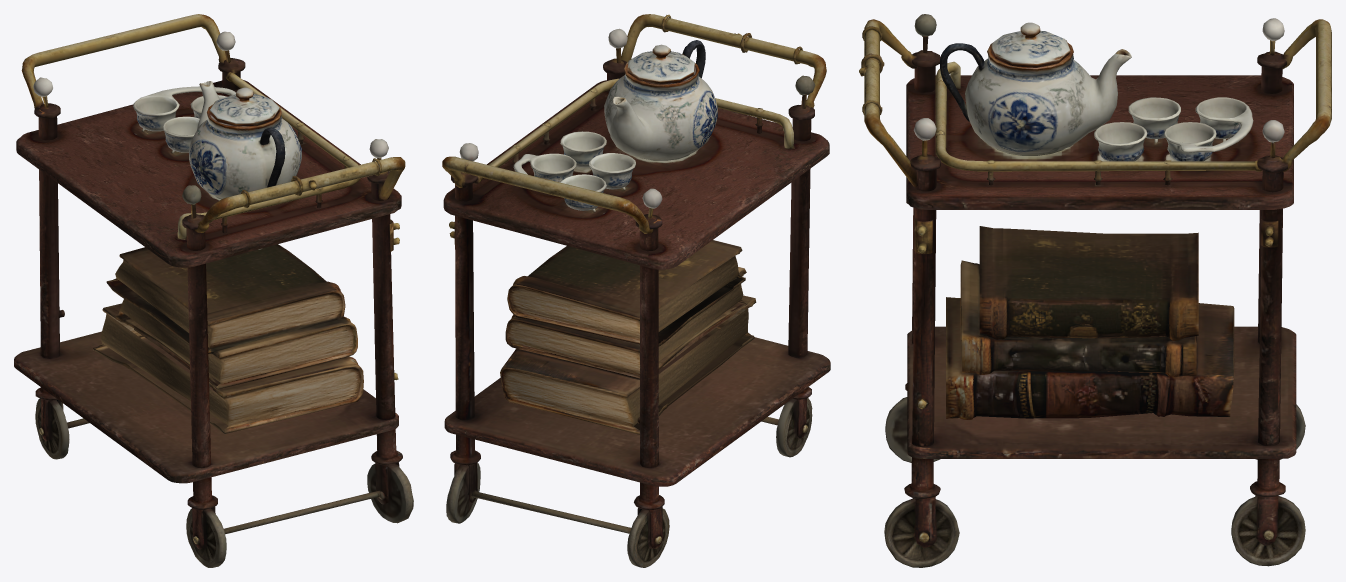
3 views of the same model, side by side, from view 1: azimuth 30°, elevation 25°; view 2: azimuth 150°, elevation 25°; view 3: azimuth 270°, elevation 25° (orthographic). The views are drawn at different scales.
Visible parts, largest first — view 1: tripo_node_6488159e-99cc-46d5-a949-6d8d801ff641; view 2: tripo_node_6488159e-99cc-46d5-a949-6d8d801ff641; view 3: tripo_node_6488159e-99cc-46d5-a949-6d8d801ff641.
Boxes of the visible parts, x1,y1,x2,y2 form: tripo_node_6488159e-99cc-46d5-a949-6d8d801ff641: (14, 14, 413, 567); tripo_node_6488159e-99cc-46d5-a949-6d8d801ff641: (442, 14, 830, 567); tripo_node_6488159e-99cc-46d5-a949-6d8d801ff641: (859, 14, 1331, 567).
Size of the model in its own units: 0.5762 by 0.998 by 0.8809.
1 material, 1 textured.
